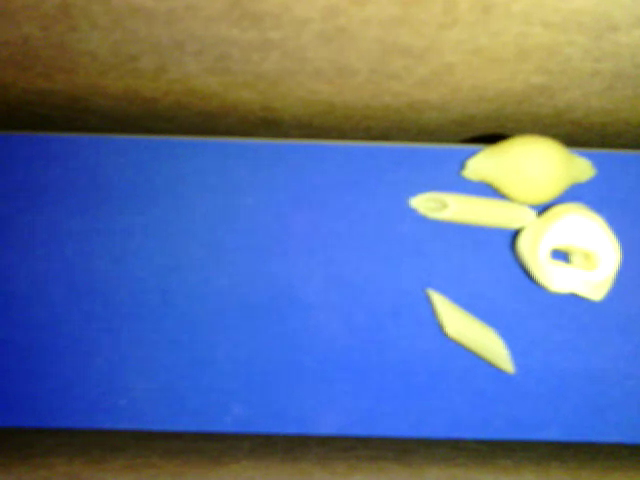penne: (426, 287, 515, 375), (409, 189, 538, 230)
shell: (459, 132, 597, 205)
tortellini: (516, 201, 619, 303)
